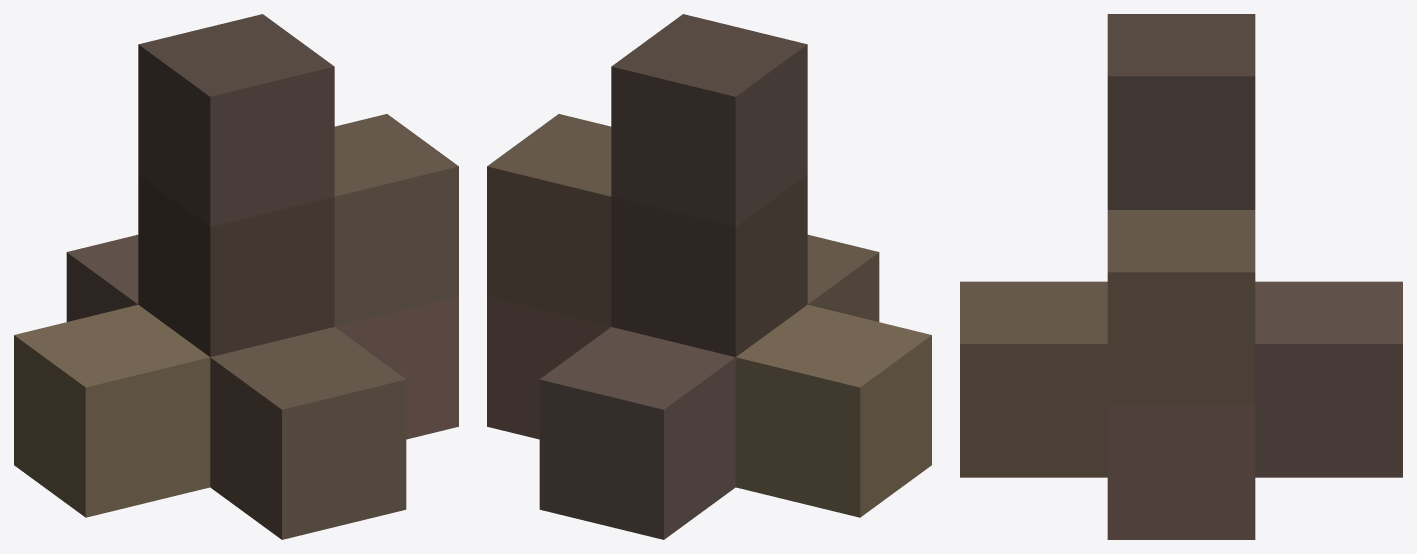
File: wooden_fence_pole_broken_small.glb
3 renders of one model, left to right at view 1: azimuth 30°, elevation 25°; view 2: azimuth 150°, elevation 25°; view 3: azimuth 270°, elevation 25°, orthographic. The views are drawn at different scales.
Parts seen in each view (by area): view 1: wooden_fence_pole_broken_small; view 2: wooden_fence_pole_broken_small; view 3: wooden_fence_pole_broken_small.
Part boxes in pixels (x1=…): wooden_fence_pole_broken_small: x1=14, y1=14, x2=458, y2=539; wooden_fence_pole_broken_small: x1=487, y1=14, x2=931, y2=539; wooden_fence_pole_broken_small: x1=960, y1=14, x2=1402, y2=539.
Size of the model in its own units: 0.75 by 0.75 by 0.75.
Materials: 1 (1 with a texture image).
